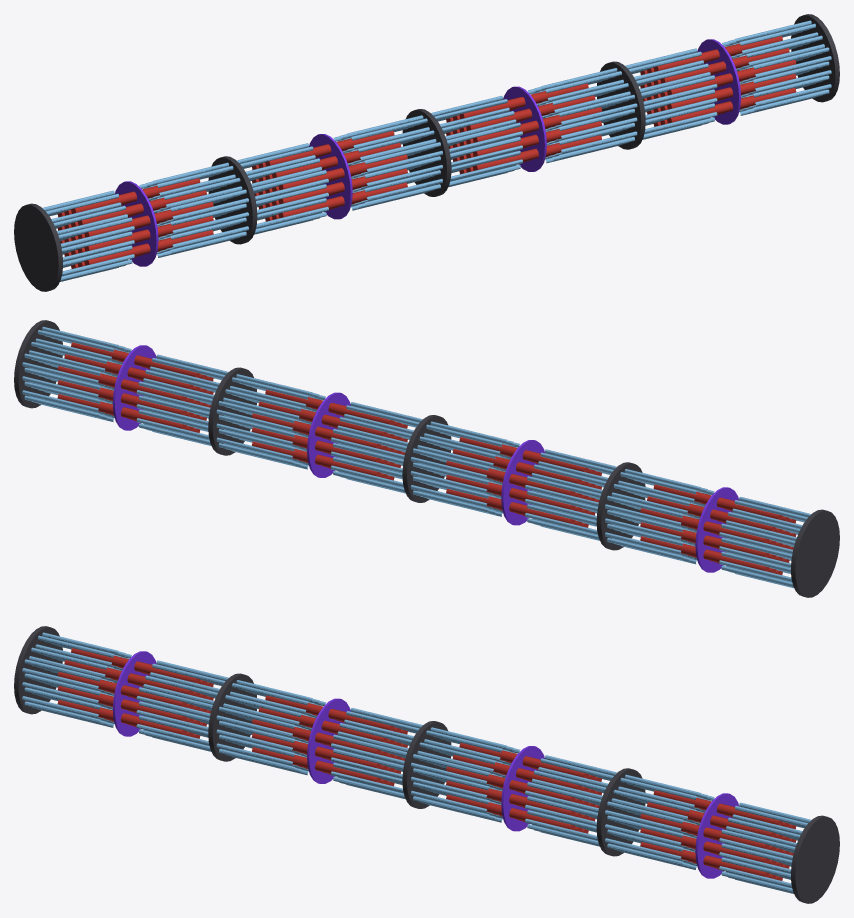
The model's file is myofibril.glb.
3 views of the same model, one above another, from view 1: azimuth 30°, elevation 25°; view 2: azimuth 150°, elevation 25°; view 3: azimuth 330°, elevation 25° (orthographic).
Parts seen in each view (by area): view 1: Thin filaments.004, Thin filaments.002, Thin filaments.008, Thin filaments.006, Thick filaments.001, Thick filaments.003, Thick filaments.004, Thick filaments.002, Thin filaments.007, Thin filaments.005, Thin filaments.001, Thin filaments.003 (+9 smaller); view 2: Thin filaments.002, Thin filaments.004, Thin filaments.006, Thin filaments.008, Thick filaments.001, Thick filaments.002, Thick filaments.003, Thick filaments.004, Thin filaments.007, Thin filaments.005, Thin filaments.001, Thin filaments.003 (+9 smaller); view 3: Thin filaments.005, Thin filaments.007, Thin filaments.001, Thin filaments.003, Thick filaments.004, Thick filaments.002, Thick filaments.001, Thick filaments.003, Thin filaments.002, Thin filaments.004, Thin filaments.006, Thin filaments.008 (+9 smaller).
Boxes of the visible parts, x1,y1,x2,y2 form: Thin filaments.004: (333,115,442,210); Thin filaments.002: (139,162,248,257); Thin filaments.008: (722,20,831,115); Thin filaments.006: (528,68,637,163); Thick filaments.001: (57,178,213,268); Thick filaments.003: (446,83,601,174); Thick filaments.004: (640,36,796,126); Thick filaments.002: (252,131,407,221); Thin filaments.007: (625,48,717,139); Thin filaments.005: (431,96,522,187); Thin filaments.001: (42,190,134,281); Thin filaments.003: (236,143,328,234); Thin filaments.002: (605,469,714,564); Thin filaments.004: (410,421,520,516); Thin filaments.006: (216,374,325,469); Thin filaments.008: (22,326,131,422); Thick filaments.001: (640,484,796,574); Thick filaments.002: (446,437,601,527); Thick filaments.003: (251,389,407,480); Thick filaments.004: (57,342,213,432); Thin filaments.007: (136,354,228,445); Thin filaments.005: (330,402,422,493); Thin filaments.001: (719,497,811,588); Thin filaments.003: (525,449,616,540); Thin filaments.005: (411,727,520,822); Thin filaments.007: (605,774,714,869); Thin filaments.001: (22,632,131,727); Thin filaments.003: (216,680,325,775); Thick filaments.004: (640,790,796,880); Thick filaments.002: (252,695,407,786); Thick filaments.001: (57,648,213,738); Thick filaments.003: (446,743,601,833); Thin filaments.002: (136,660,228,751); Thin filaments.004: (331,708,422,799); Thin filaments.006: (525,755,617,846); Thin filaments.008: (719,802,811,893).
Size of the model in its own units: 22.61 by 2.24 by 2.24.
